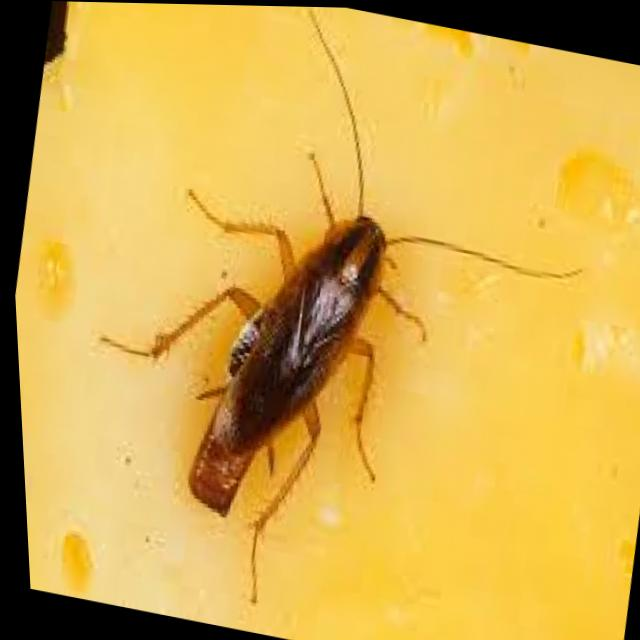Cockroach: (44, 1, 634, 640)
